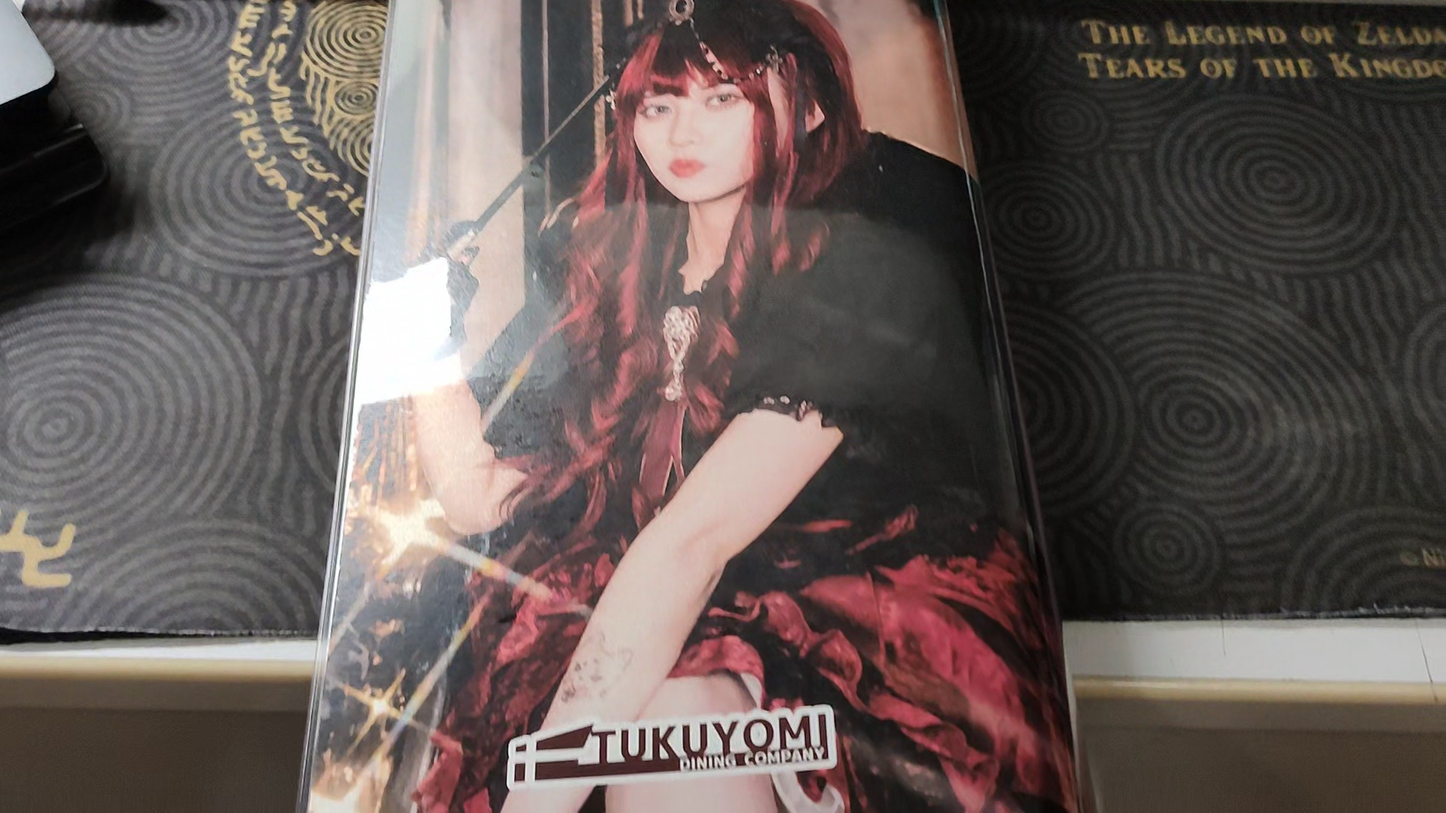Photo_book: (294, 0, 1087, 813)
